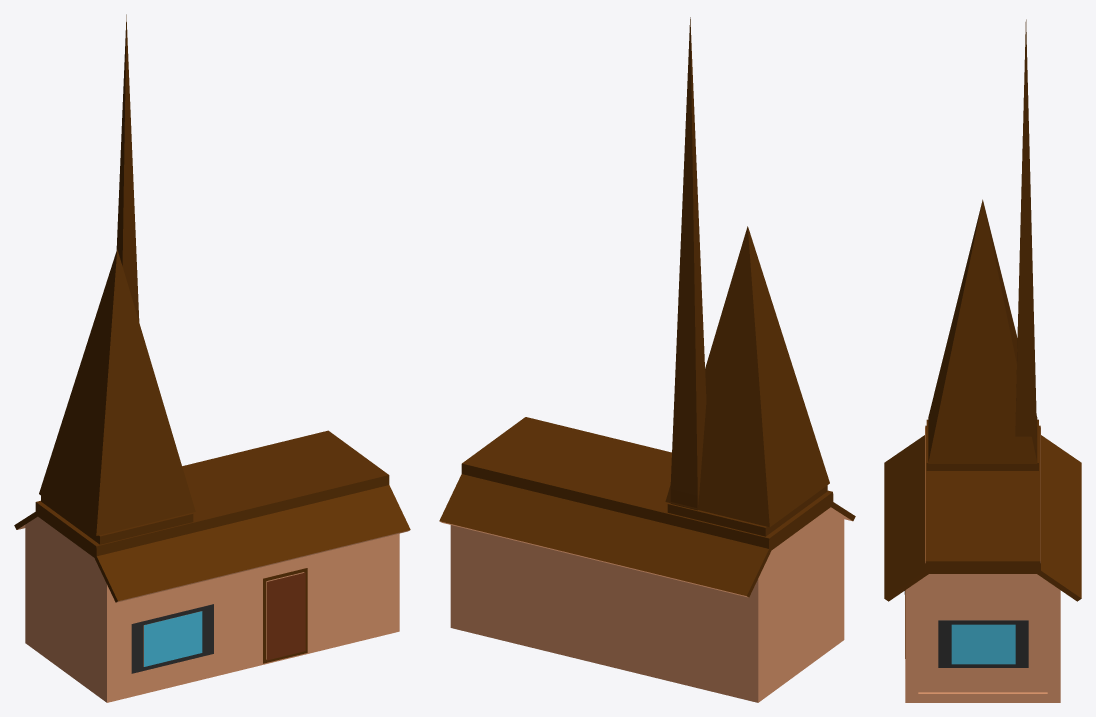
3 renders of one model, left to right at view 1: azimuth 30°, elevation 25°; view 2: azimuth 150°, elevation 25°; view 3: azimuth 270°, elevation 25°, orthographic. The views are drawn at different scales.
Visible parts, largest first — view 1: house; view 2: house; view 3: house.
Boxes of the visible parts, x1,y1,x2,y2 form: house: (14, 14, 410, 702); house: (439, 17, 855, 702); house: (884, 19, 1081, 702).
Size of the model in its own units: 39.3 by 24.16 by 79.97.
